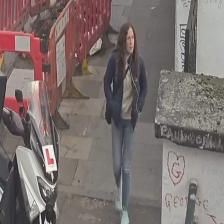person: (103, 22, 147, 224)
